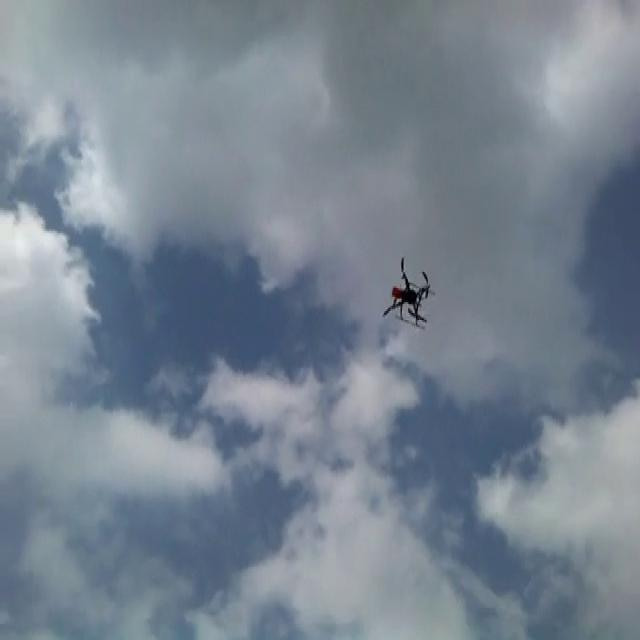drone: (379, 256, 435, 329)
